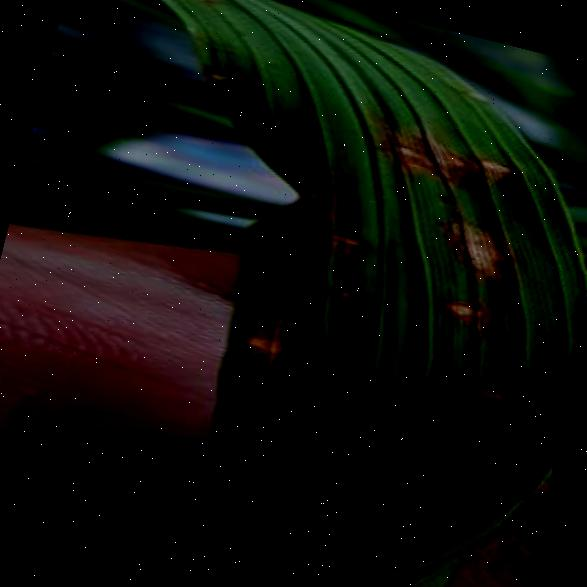Leaf_smut: (421, 202, 542, 321), (252, 451, 360, 580), (246, 129, 360, 246), (356, 107, 484, 202), (224, 271, 322, 390), (368, 364, 454, 458), (457, 115, 536, 212), (378, 454, 465, 538), (420, 270, 507, 340), (460, 356, 538, 424), (195, 39, 259, 110), (321, 268, 389, 326), (326, 221, 376, 262), (143, 0, 231, 17)
